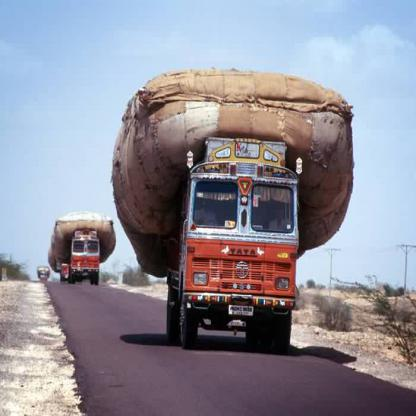truck: (166, 137, 298, 351), (70, 230, 99, 284)
